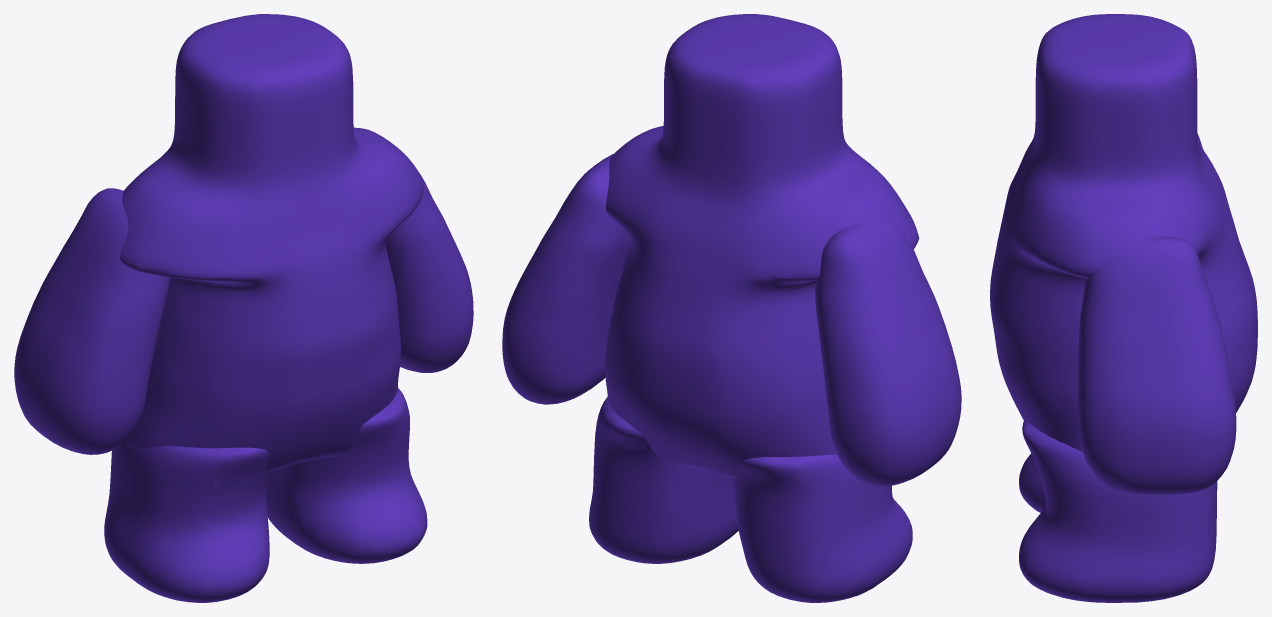
Rendered from body.glb.
3 views of the same model, side by side, from view 1: azimuth 30°, elevation 25°; view 2: azimuth 150°, elevation 25°; view 3: azimuth 270°, elevation 25° (orthographic).
Visible parts, largest first — view 1: torso, arm_L, leg_L, leg_R, arm_R; view 2: torso, arm_L, leg_L, arm_R, leg_R; view 3: torso, arm_R, leg_R, leg_L.
Part boxes in pixels (x1,y1,x2,y2): torso: [120, 14, 423, 471]; arm_L: [14, 188, 170, 454]; leg_L: [104, 438, 273, 602]; leg_R: [266, 388, 427, 563]; arm_R: [357, 128, 473, 372]; torso: [605, 14, 919, 478]; arm_L: [815, 220, 961, 486]; leg_L: [729, 454, 912, 602]; arm_R: [502, 154, 630, 404]; leg_R: [589, 397, 738, 563]; torso: [990, 14, 1257, 451]; arm_R: [1077, 236, 1236, 494]; leg_R: [1019, 420, 1217, 602]; leg_L: [1019, 453, 1045, 512].
Size of the model in its own units: 1.77 by 2.07 by 0.9921.
